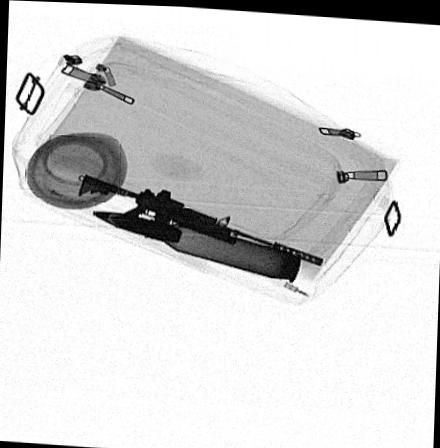Bullet: (90, 209, 299, 280)
Gun: (76, 171, 323, 261)
